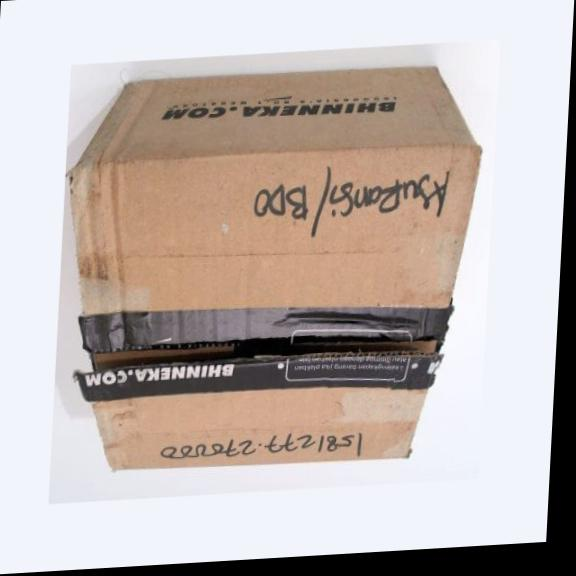Kertas: (68, 68, 479, 468)
